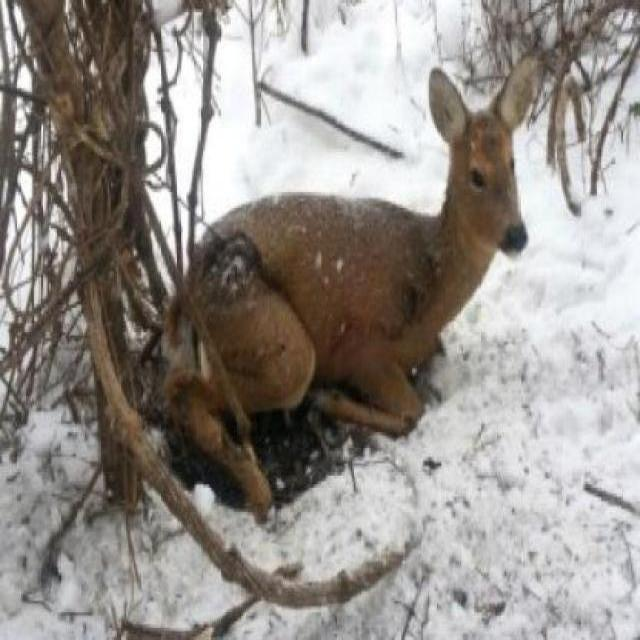deer: (138, 46, 542, 534)
